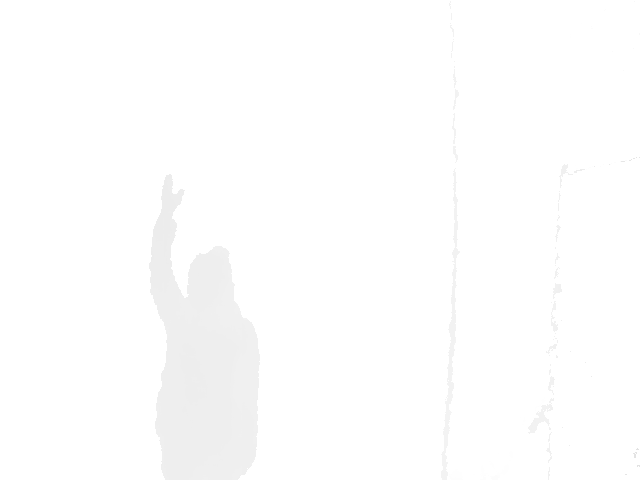hand: (160, 173, 186, 211)
head: (186, 246, 236, 300)
person: (148, 173, 261, 480)
